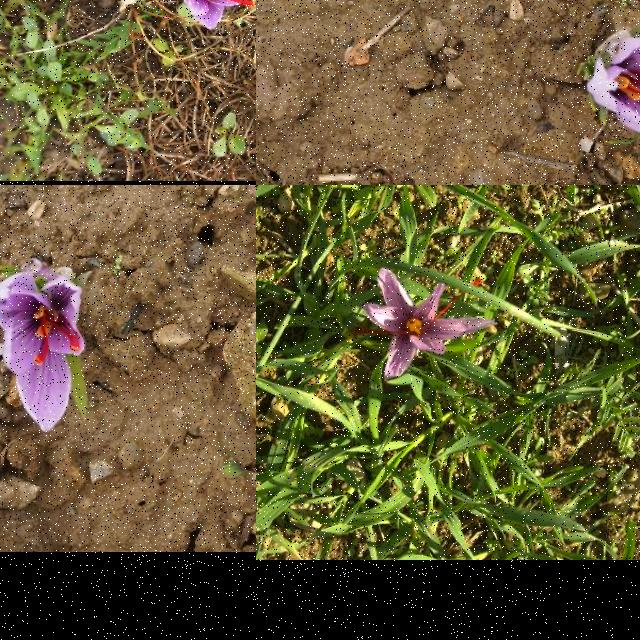flower: (365, 268, 497, 382), (0, 270, 85, 431), (591, 38, 640, 160), (178, 0, 255, 30)
